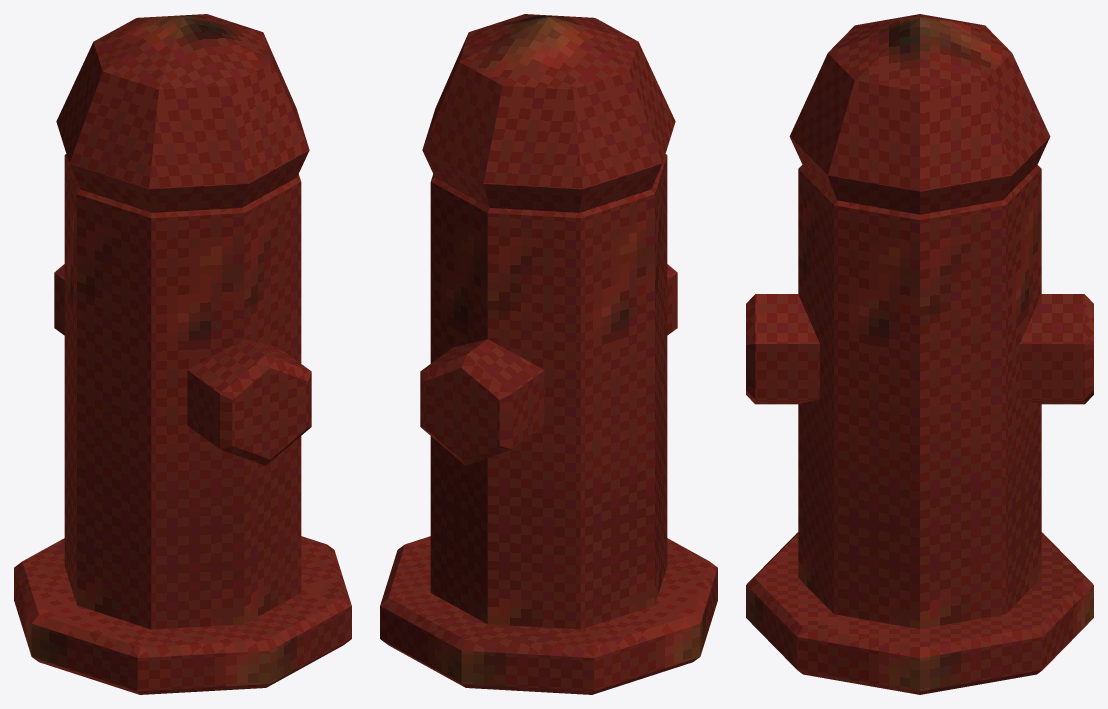
The model's file is ext_hydrant.glb.
The picture shows the model from 3 angles, left to right: view 1: azimuth 30°, elevation 25°; view 2: azimuth 150°, elevation 25°; view 3: azimuth 270°, elevation 25°; orthographic projection.
Visible parts, largest first — view 1: ext_hydrant_mesh; view 2: ext_hydrant_mesh; view 3: ext_hydrant_mesh.
Boxes of the visible parts, box(x1,y1,x2,y2) form: ext_hydrant_mesh: box(14, 14, 351, 694); ext_hydrant_mesh: box(380, 14, 717, 694); ext_hydrant_mesh: box(746, 14, 1093, 694).
Size of what is drawn, in the model's own units: 0.4 by 0.77 by 0.4.
1 material, 1 textured.
